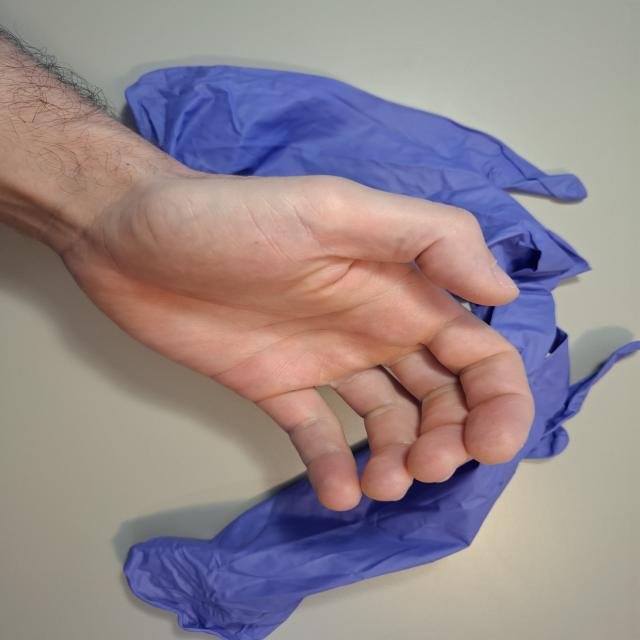glove_off: (47, 161, 539, 515)
